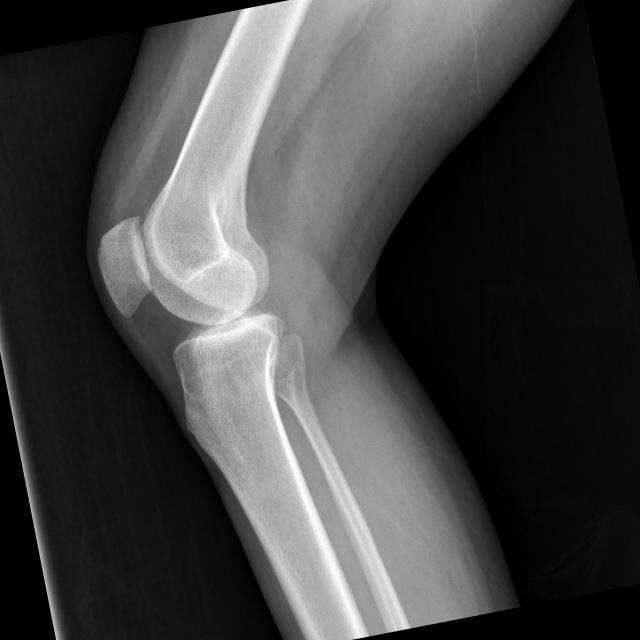Knee: (86, 182, 302, 434)
